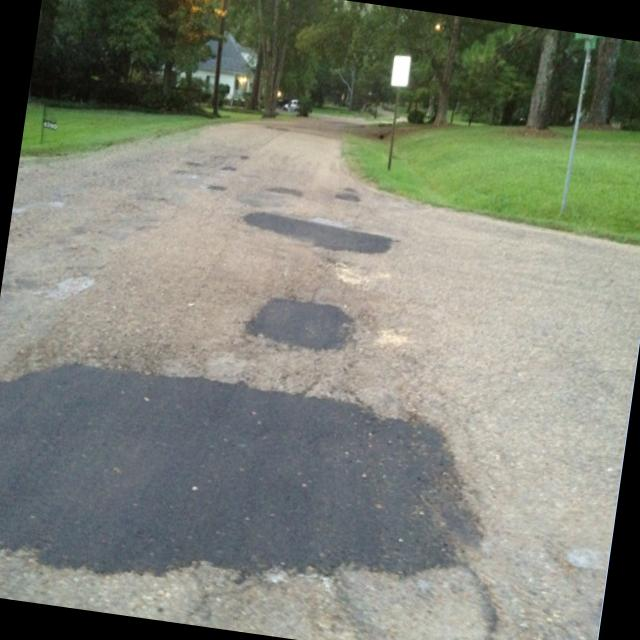Potholes: (0, 346, 483, 621), (232, 189, 426, 273), (246, 270, 348, 349)
